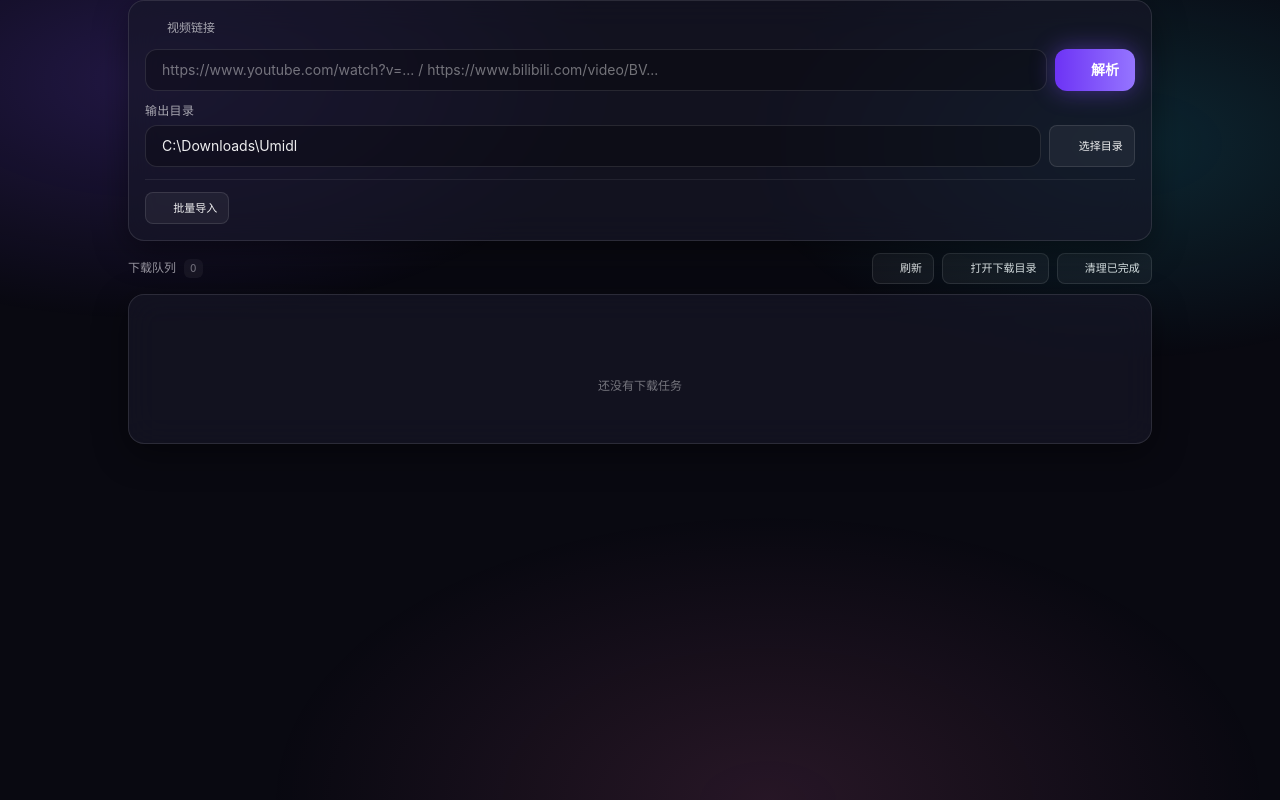
Test case: Download request ownership › clears resolved metadata immediately when the URL changes
Replace the text in the field with test id "link-input" with "https://example.com/a" at point(596, 70), box [145,49,1047,91]
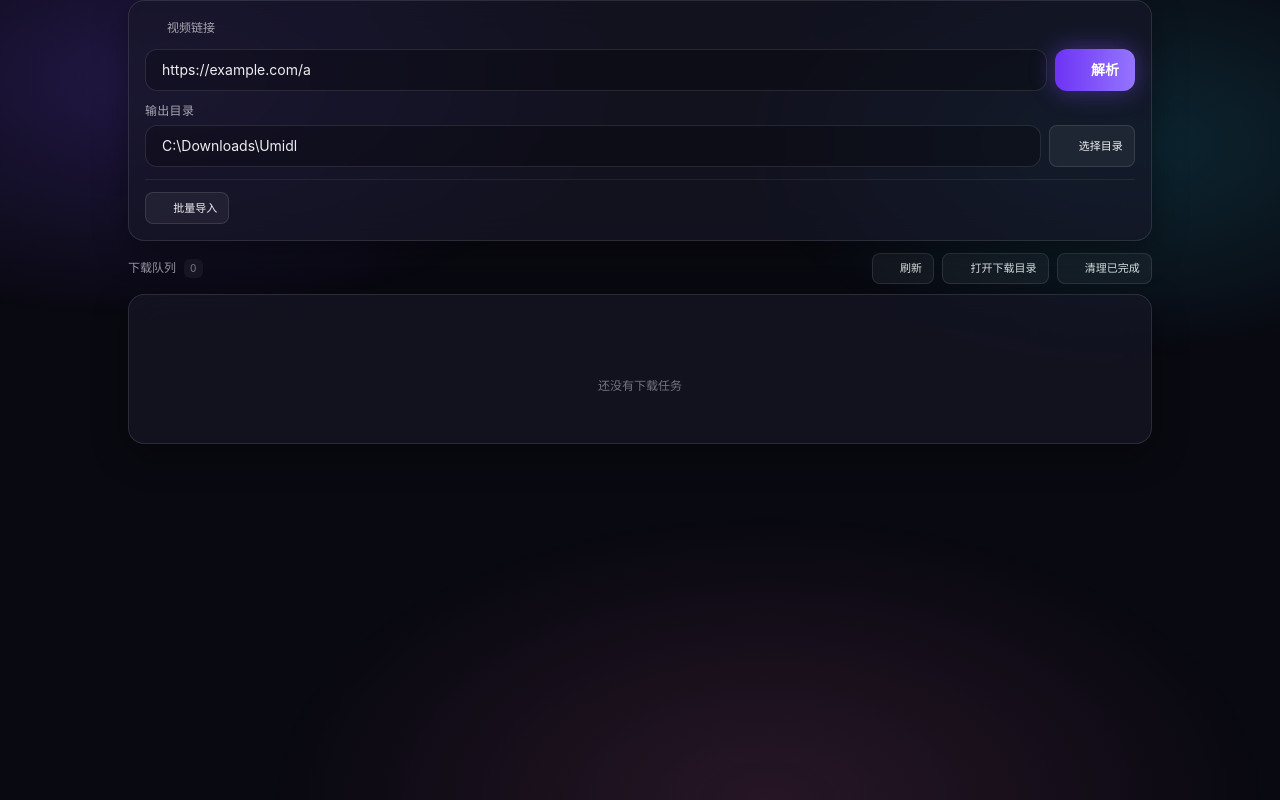
Click the button with test id "link-primary" at point(1095, 70), box [1055,49,1135,91]
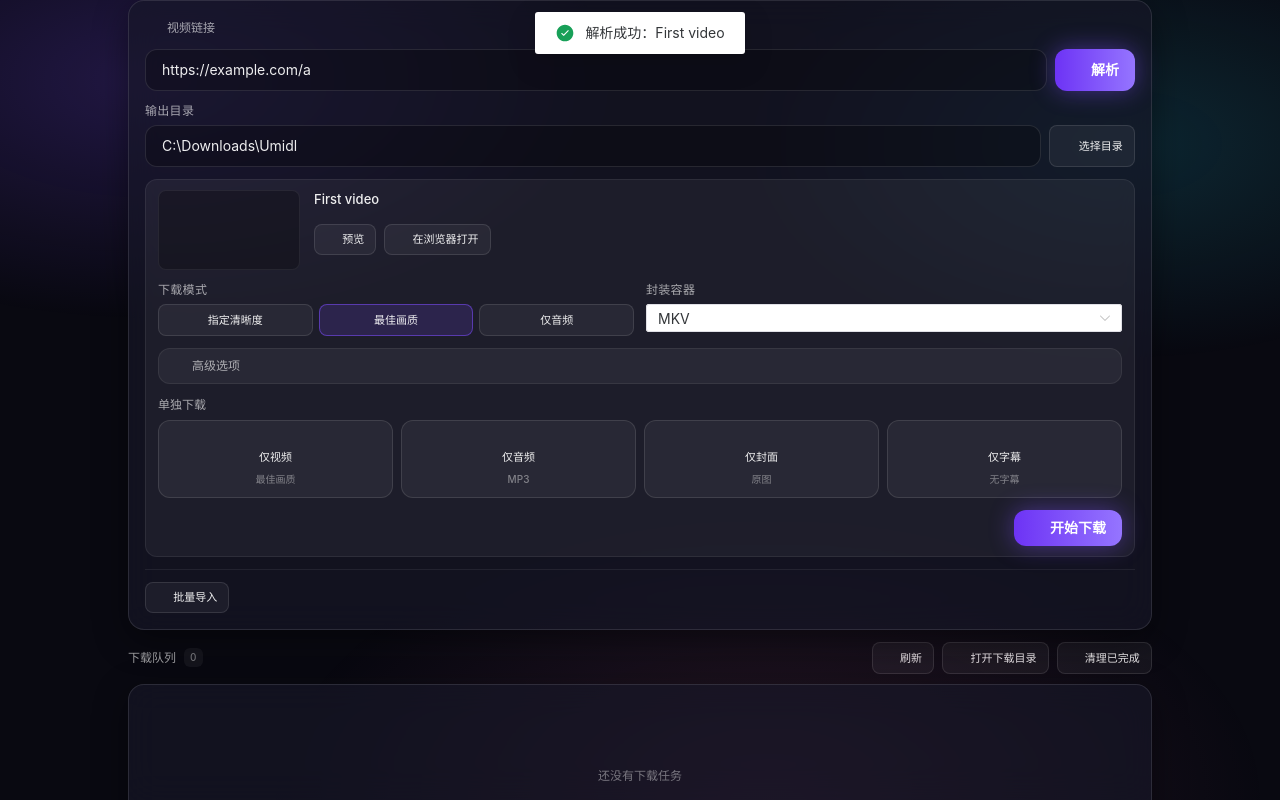
Replace the text in the field with test id "link-input" with "https://example.com/b" at point(596, 70), box [145,49,1047,91]
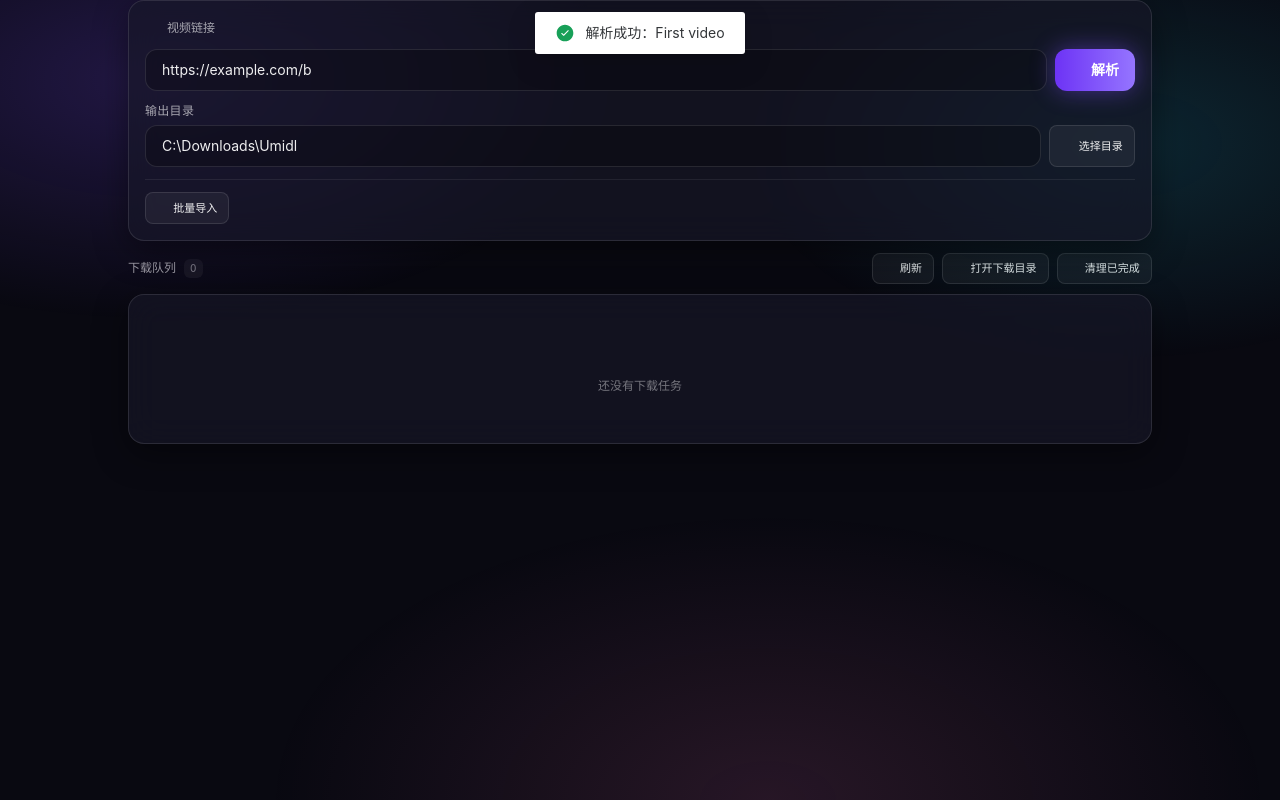
Result: the element with test id "probe-result" is gone
Result: the button with test id "link-start" is gone
